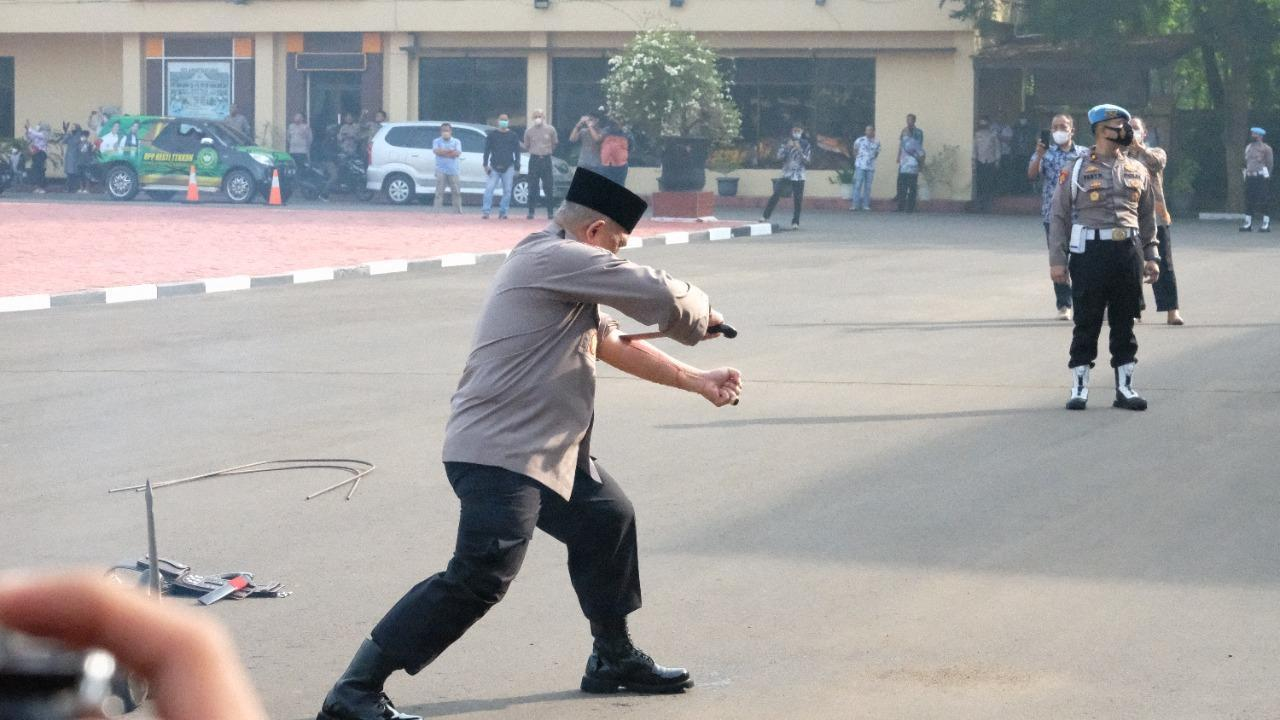facao: (619, 324, 738, 342)
